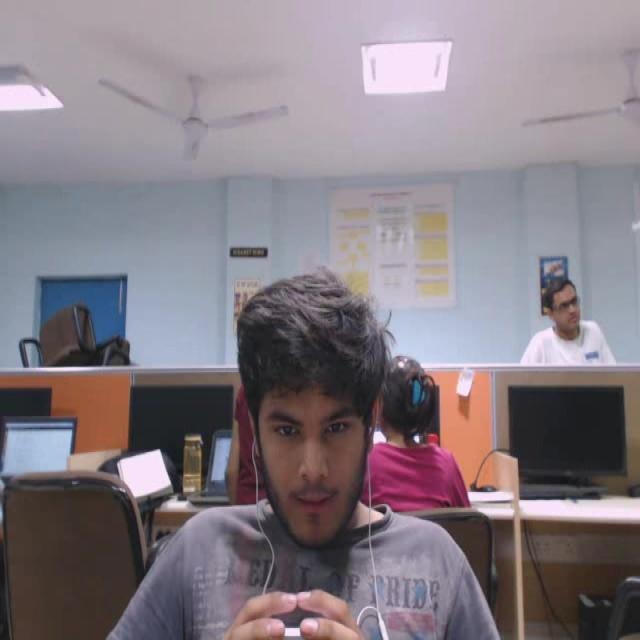Engaged: (199, 254, 425, 573)
